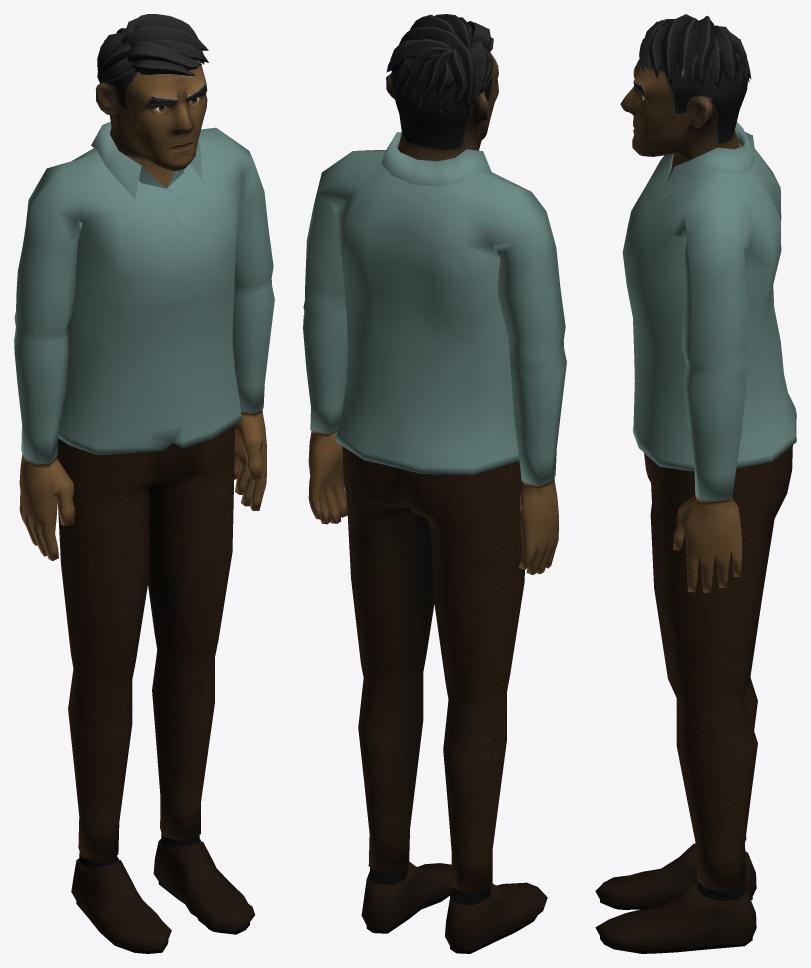
Rendered from person02.glb.
The picture shows the model from 3 angles, left to right: view 1: azimuth 30°, elevation 25°; view 2: azimuth 150°, elevation 25°; view 3: azimuth 270°, elevation 25°; orthographic projection.
Visible parts, largest first — view 1: M_lBody_BaseMesh.005; view 2: M_lBody_BaseMesh.005; view 3: M_lBody_BaseMesh.005.
Part boxes in pixels (x1,y1,x2,y2): M_lBody_BaseMesh.005: (14, 14, 274, 953); M_lBody_BaseMesh.005: (303, 14, 566, 953); M_lBody_BaseMesh.005: (595, 14, 796, 953).
Bounding box in the file's own units: 0.544 × 1.84 × 0.372.
2 materials, 2 textured.
